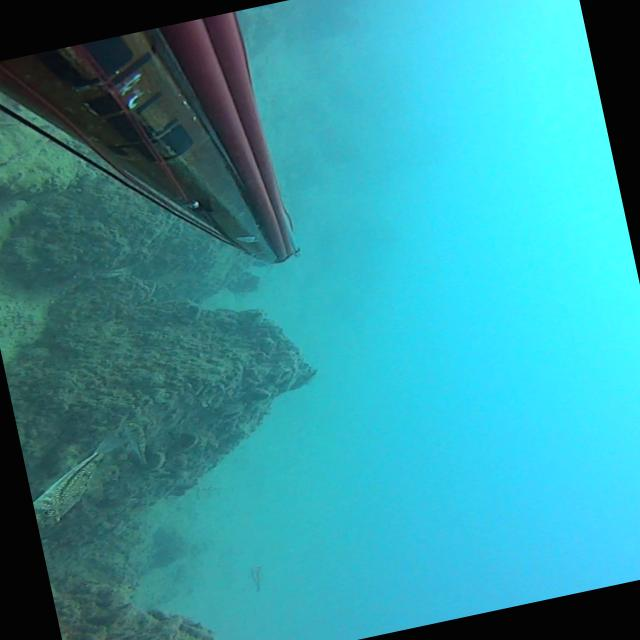Balon Baligi: (21, 431, 148, 528), (122, 421, 150, 466), (248, 564, 264, 593)
